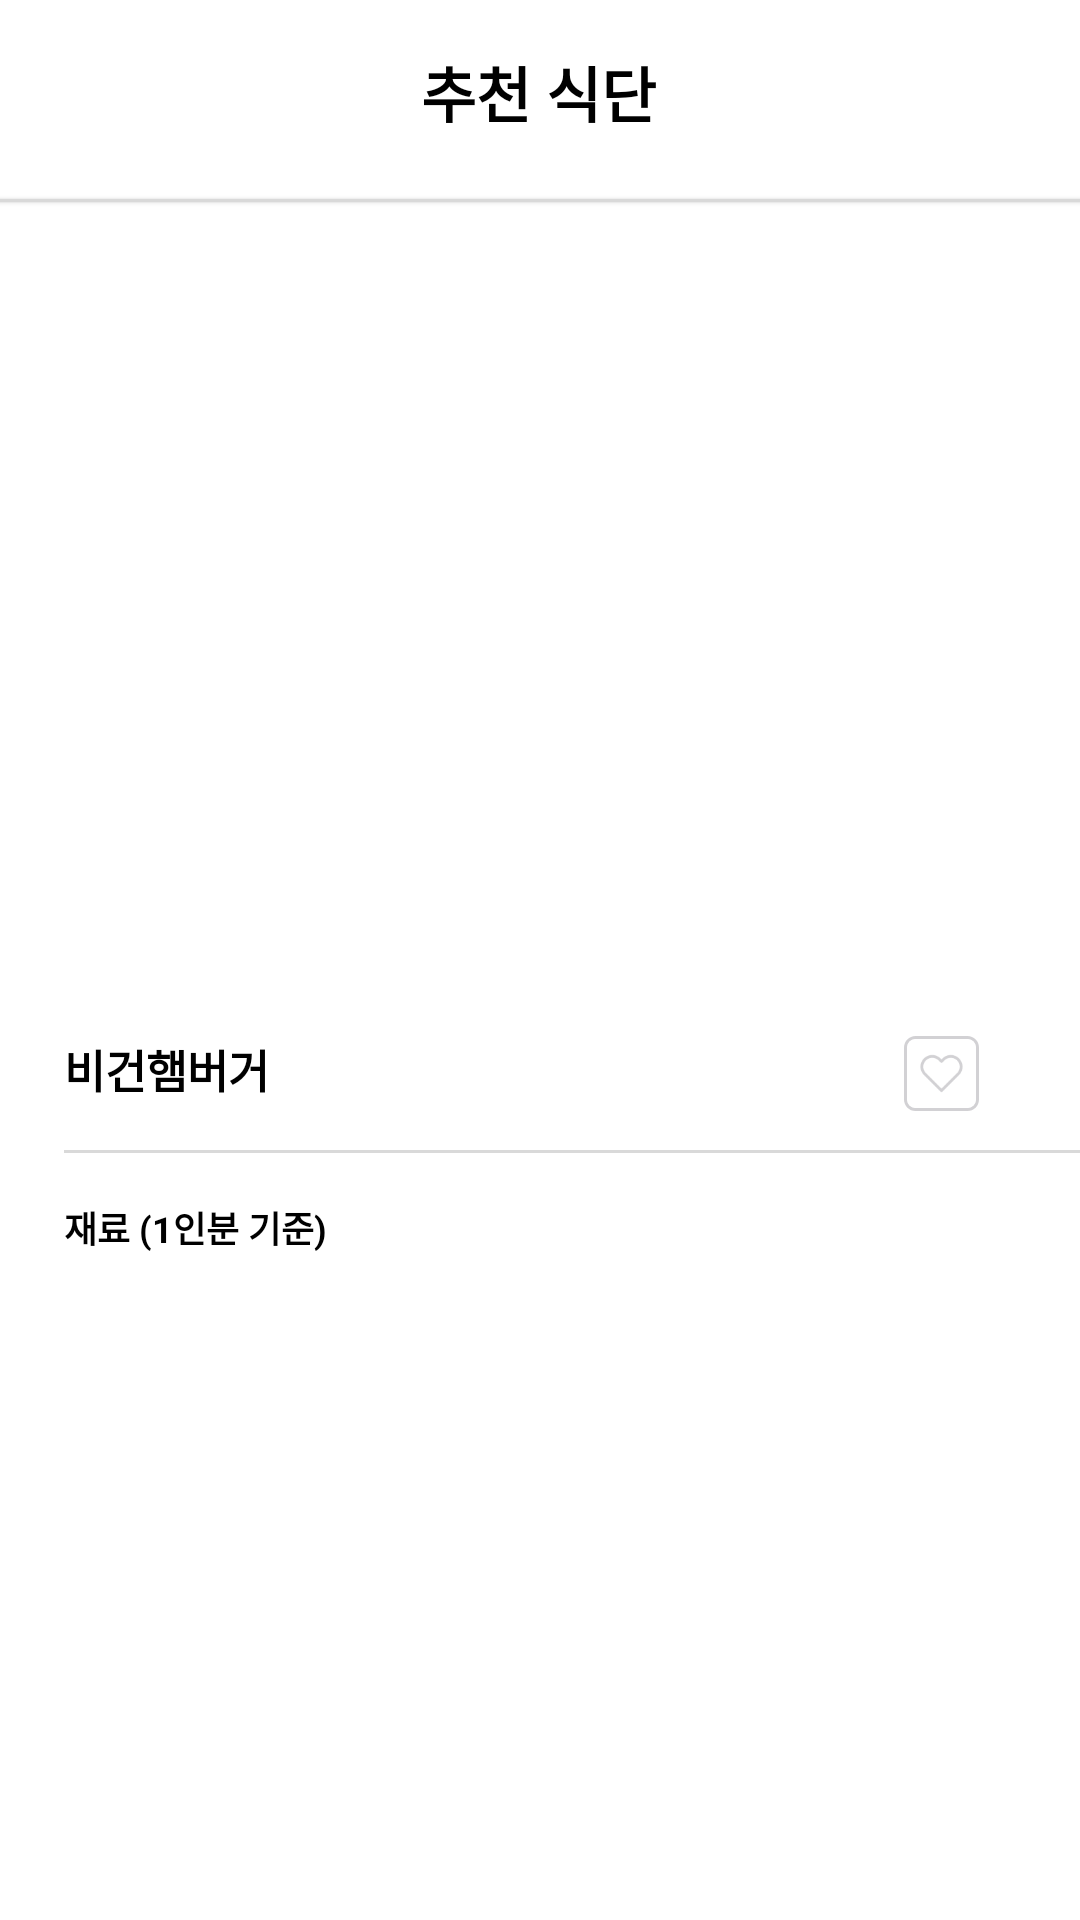

Icons on this 1080 × 1920 Android screen, each with the point to tap as (x=x, y=y):
like: (x=934, y=1066)
